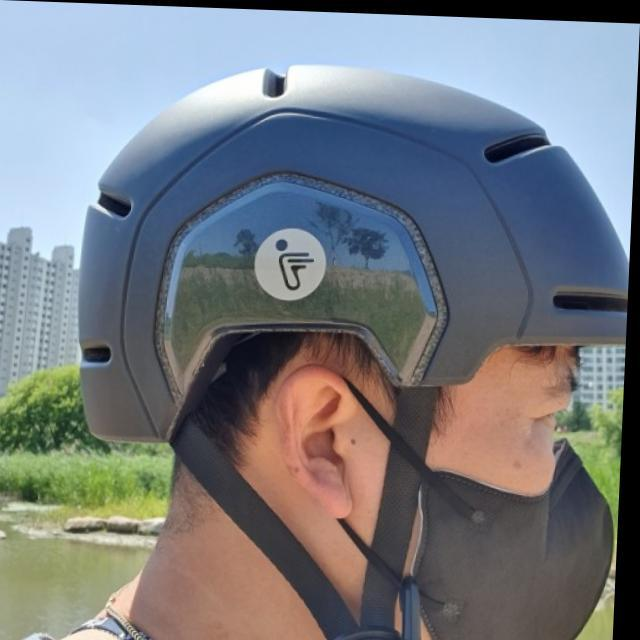Helmet: (68, 51, 636, 640)
